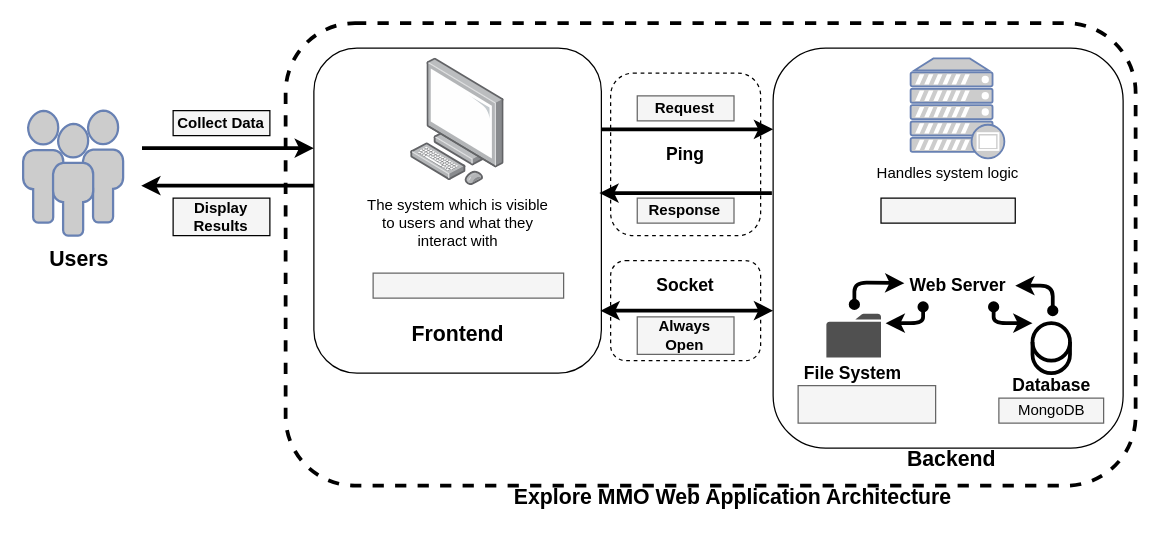
Image size: 1159x533. Some labels were removed from this diagram. Here are the shapes that lost their labels. From the top down, the centre of each, then its label:
(x=947, y=210): JavaScript
(x=468, y=285): CSS, HTML, JavaScript
(x=866, y=403): CSS, HTML, JavaScript, Images
